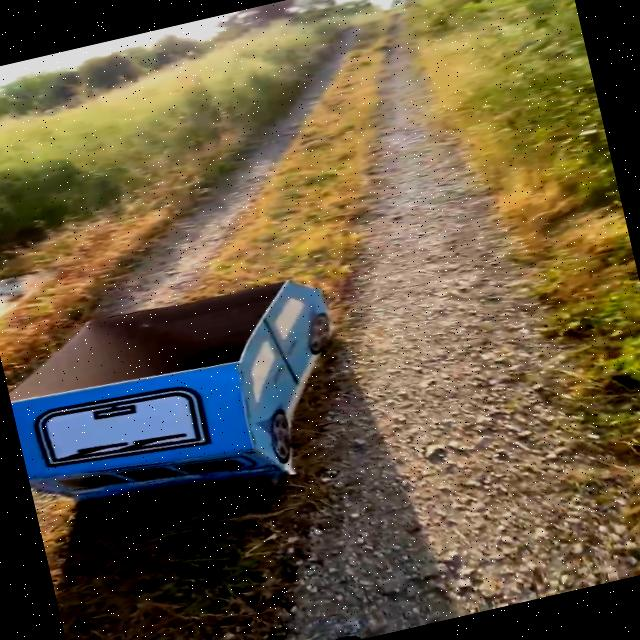blue_car: (0, 235, 433, 544)
